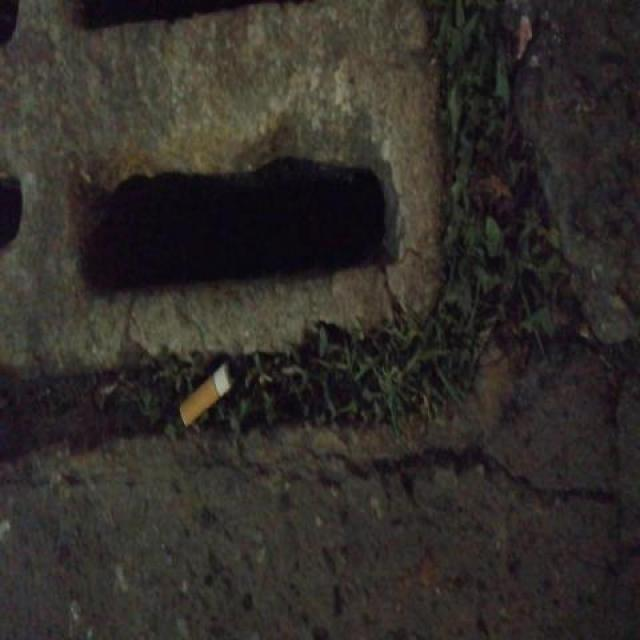non-organic waste: (174, 358, 238, 430)
